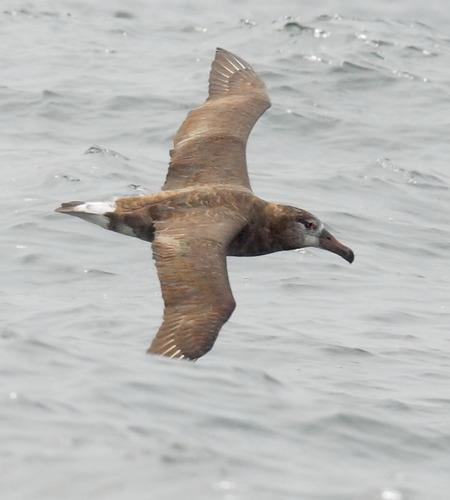001.Black_footed_Albatross: (54, 43, 356, 365)
